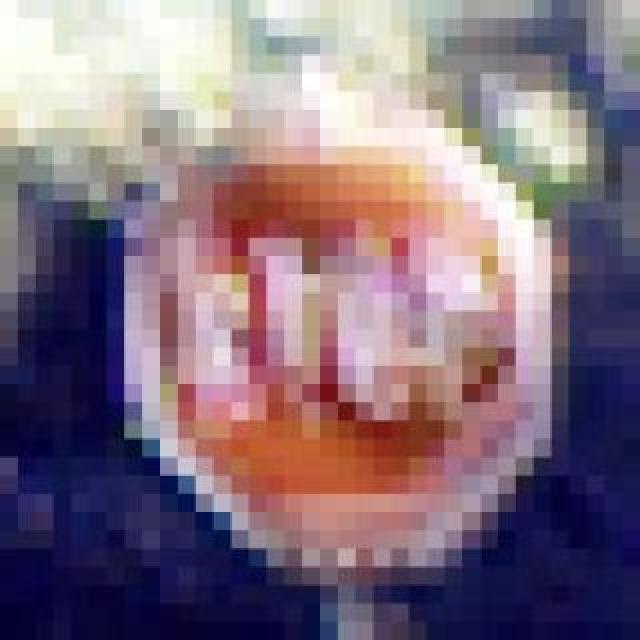stop: (90, 92, 552, 568)
